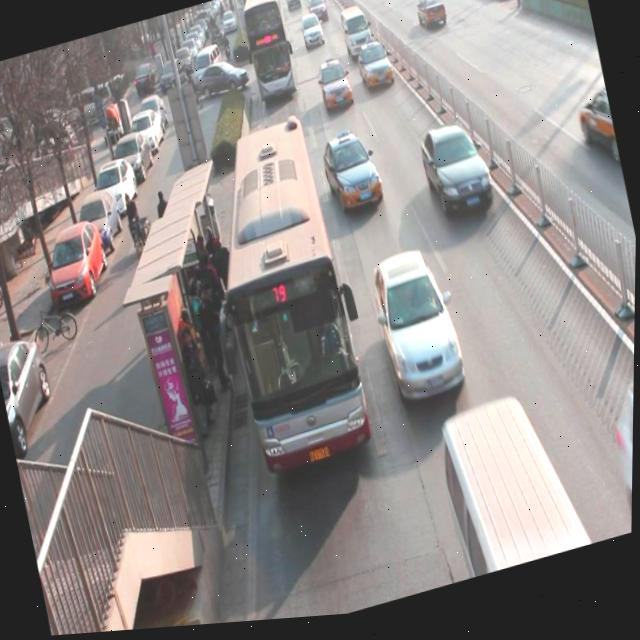car: (366, 245, 472, 414), (416, 121, 497, 230), (319, 131, 387, 219), (608, 384, 635, 531), (355, 47, 397, 98), (317, 63, 355, 114), (412, 0, 450, 41), (298, 17, 325, 56), (307, 0, 330, 31)
truck: (435, 396, 591, 583), (337, 9, 376, 69)
van: (189, 116, 380, 487), (237, 0, 299, 107)
